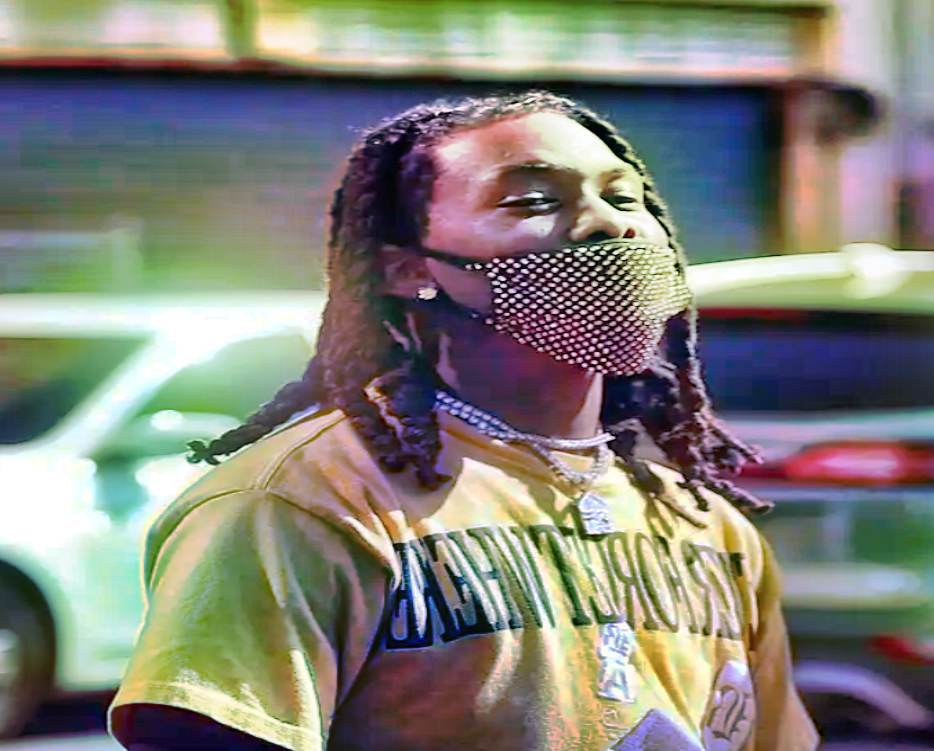mask_weared_incorrect: (334, 90, 699, 377)
